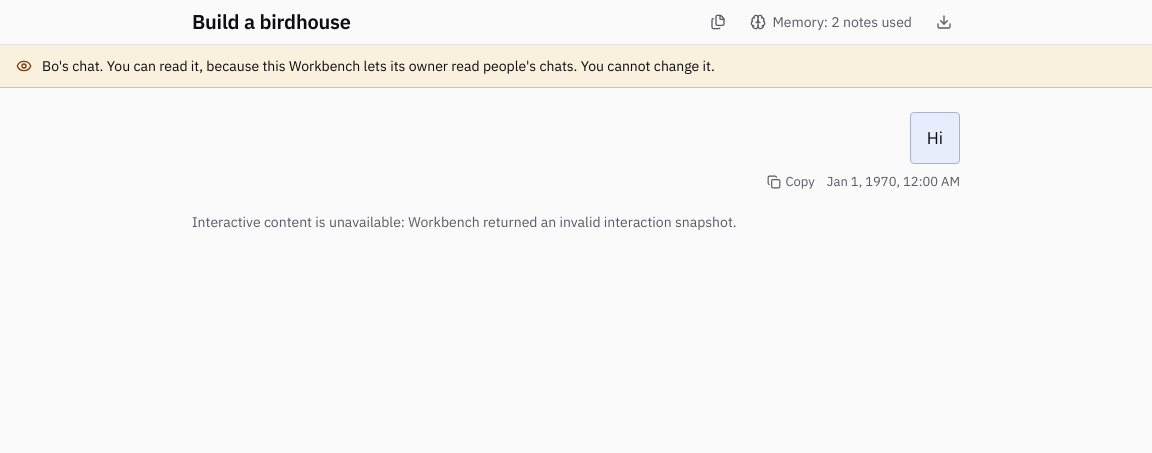
Test: Memory in a chat › is a chip even in someone else's chat, where it says how many notes were used and nothing more
Click the button with test id "memory-chip": (831, 22) [742,6,920,38]
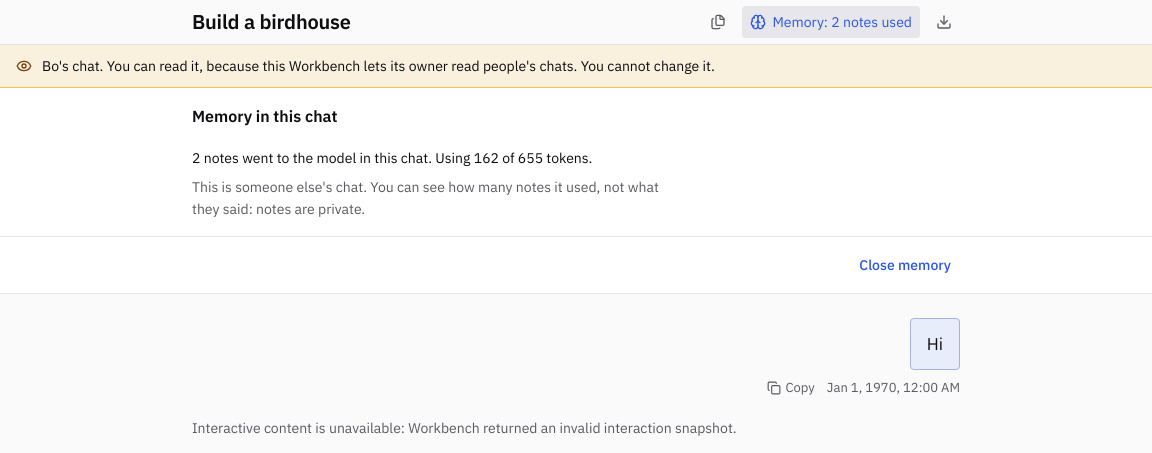
expect the element with test id "memory-status" shows "not what they said": met, box [192,178,659,218]
